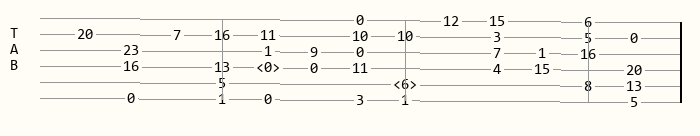0: (127, 93, 139, 107), (264, 93, 276, 107), (310, 61, 322, 75), (356, 13, 368, 27), (356, 45, 368, 59), (630, 29, 642, 43)
1: (218, 93, 230, 107), (264, 45, 276, 59), (401, 93, 413, 107), (538, 45, 550, 59)
10: (352, 29, 372, 43), (397, 29, 417, 43)
11: (260, 29, 280, 43), (352, 61, 372, 75)
12: (443, 13, 463, 27)
13: (214, 61, 234, 75), (626, 77, 646, 91)
15: (489, 13, 509, 27), (534, 61, 554, 75)
16: (123, 61, 143, 75), (214, 29, 234, 43), (580, 45, 600, 59)
20: (77, 29, 97, 43), (626, 61, 646, 75)
23: (123, 45, 143, 59)
3: (356, 93, 368, 107), (493, 29, 505, 43)
4: (493, 61, 505, 75)
5: (218, 77, 230, 91), (584, 29, 596, 43), (630, 93, 642, 107)
6: (584, 13, 596, 27)
7: (173, 29, 185, 43), (493, 45, 505, 59)
8: (584, 77, 596, 91)
9: (310, 45, 322, 59)
harmonic: (256, 61, 284, 75), (393, 77, 421, 91)
